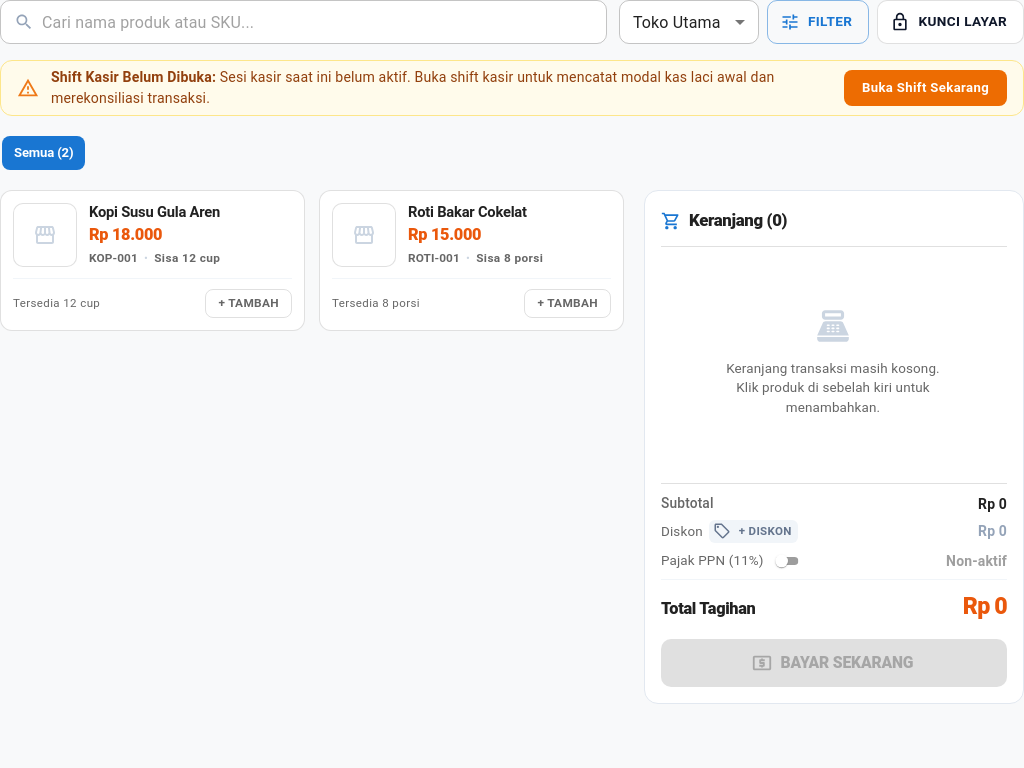
Test: PosPage › completes checkout flow with cash payment and displays receipt
Click the heading "Kopi Susu Gula Aren" at {"x": 154, "y": 212}, box [89,203,220,221]
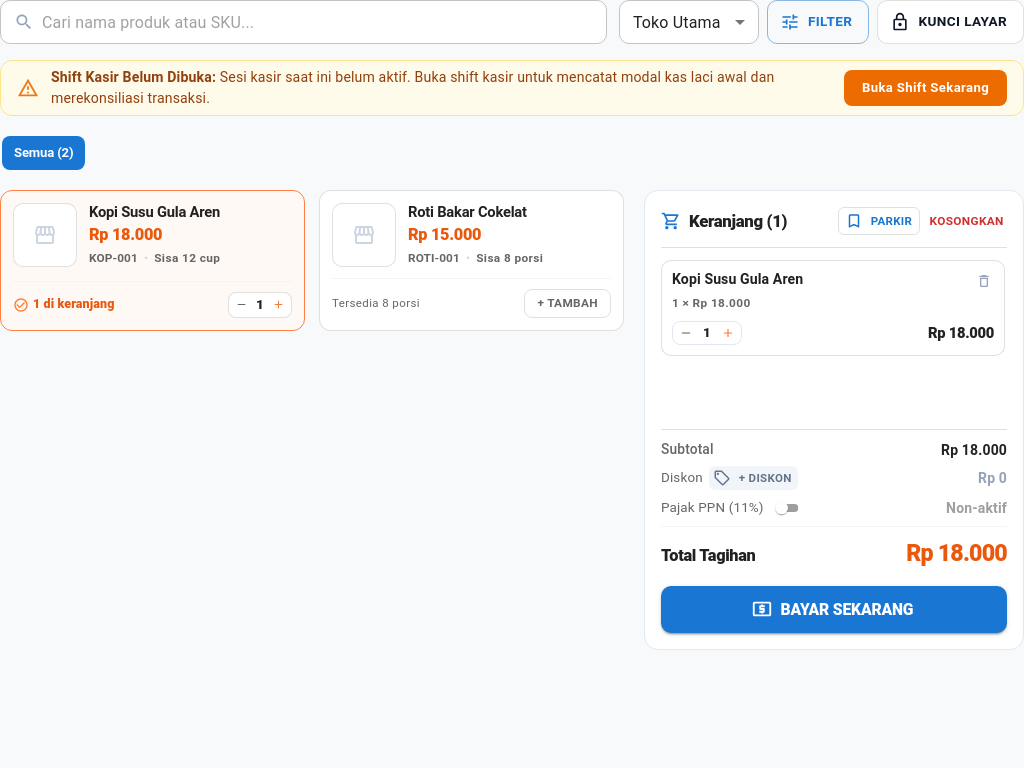
// Click checkout button
Click the button "Bayar Sekarang" at {"x": 834, "y": 610}, box [661,586,1007,633]
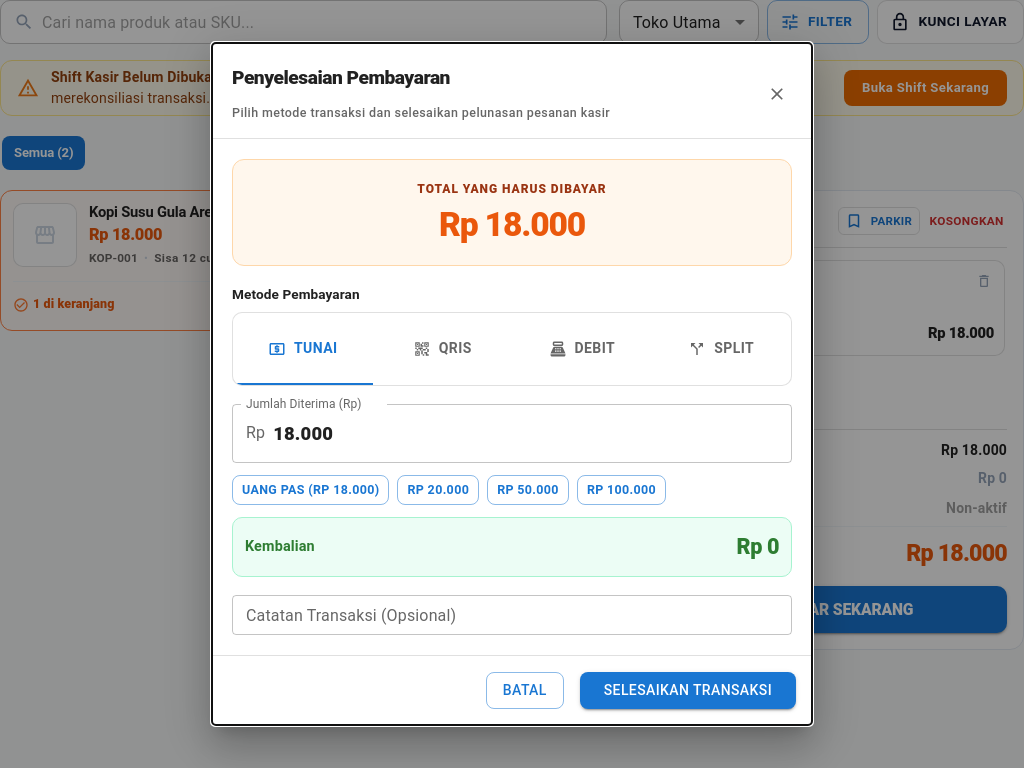
Check: the dialog is shown, box [212,43,812,725]
Check: the heading "Penyelesaian Pembayaran" is shown, box [232,66,450,89]
// Type paid amount 20000
Replace the text in the field labelled "Jumlah Diterima (Rp)" with "20000" at {"x": 533, "y": 433}, box [273,404,792,463]
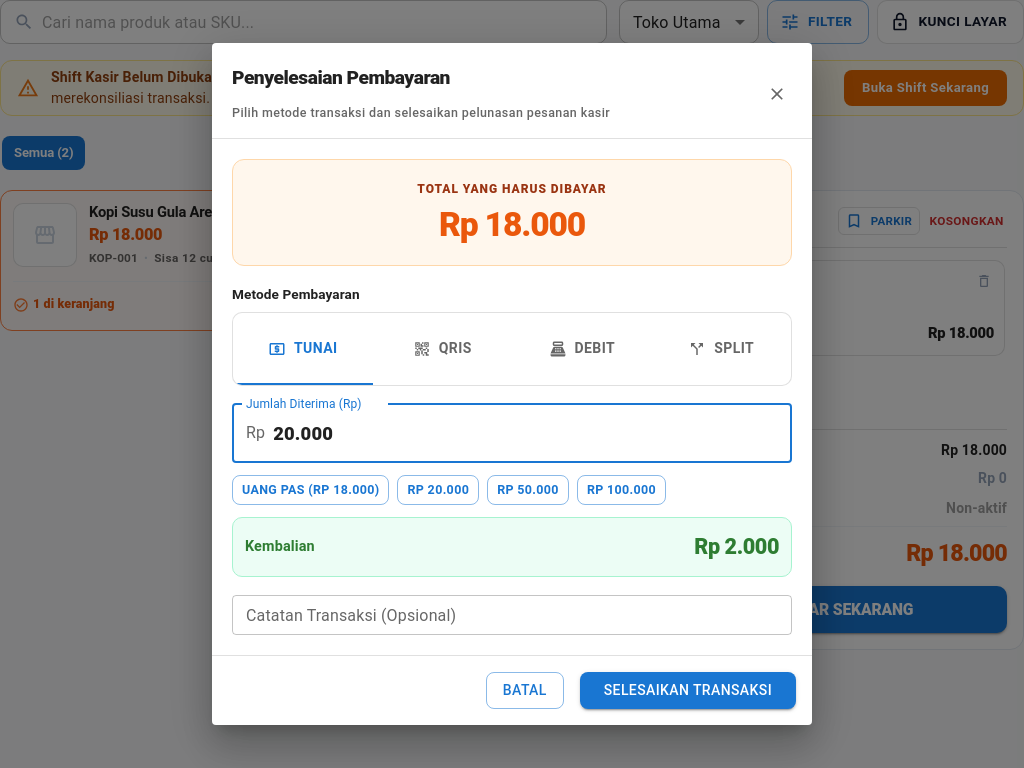
// Confirm checkout
Click the button "Selesaikan Transaksi" at {"x": 688, "y": 691}, box [580,672,796,709]
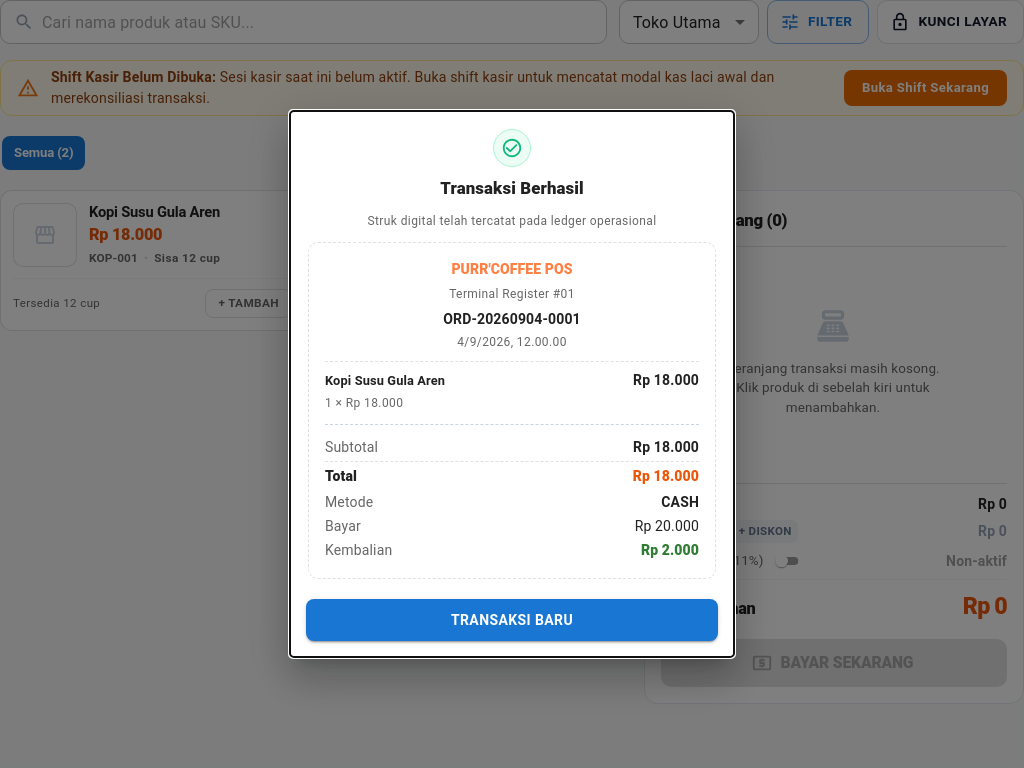
Check: the heading "Rp 2.000" is shown, box [641,540,699,562]
Check: the heading "Transaksi Berhasil" is shown, box [440,178,584,198]
Check: the text "ORD-20260904-0001" is shown, box [443,311,581,327]
